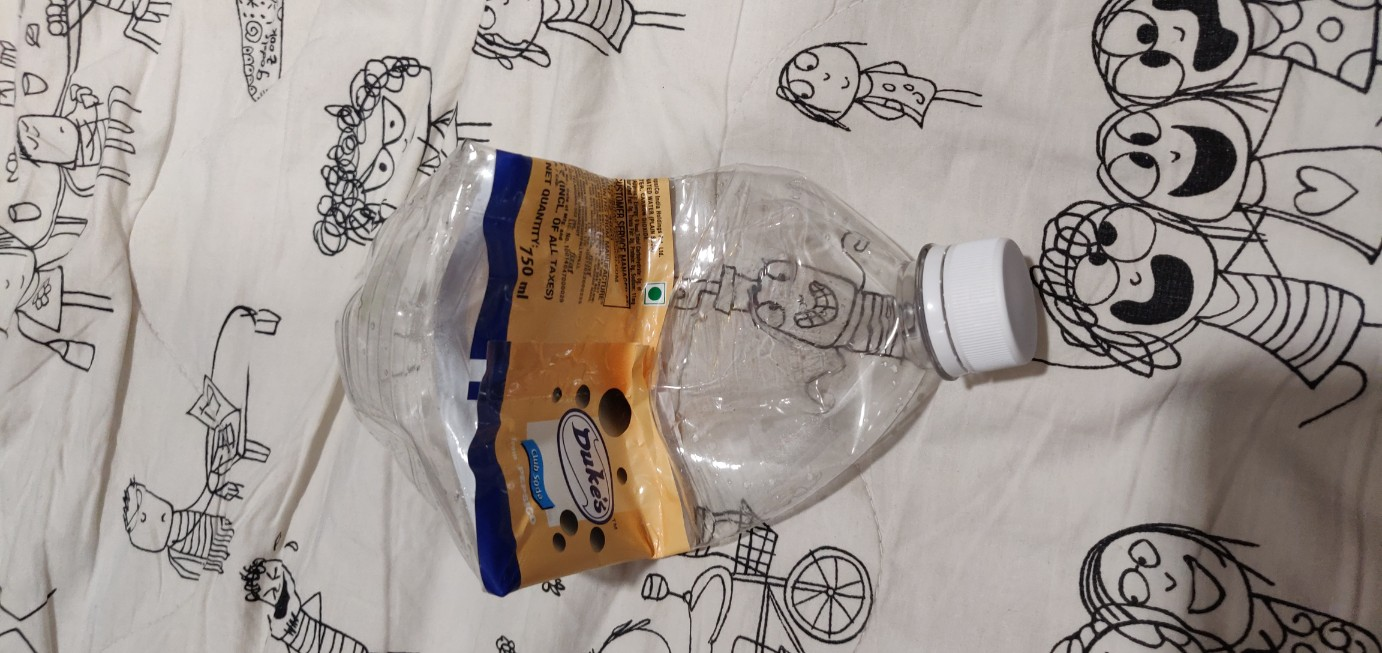Electronics: (317, 123, 1109, 619)
